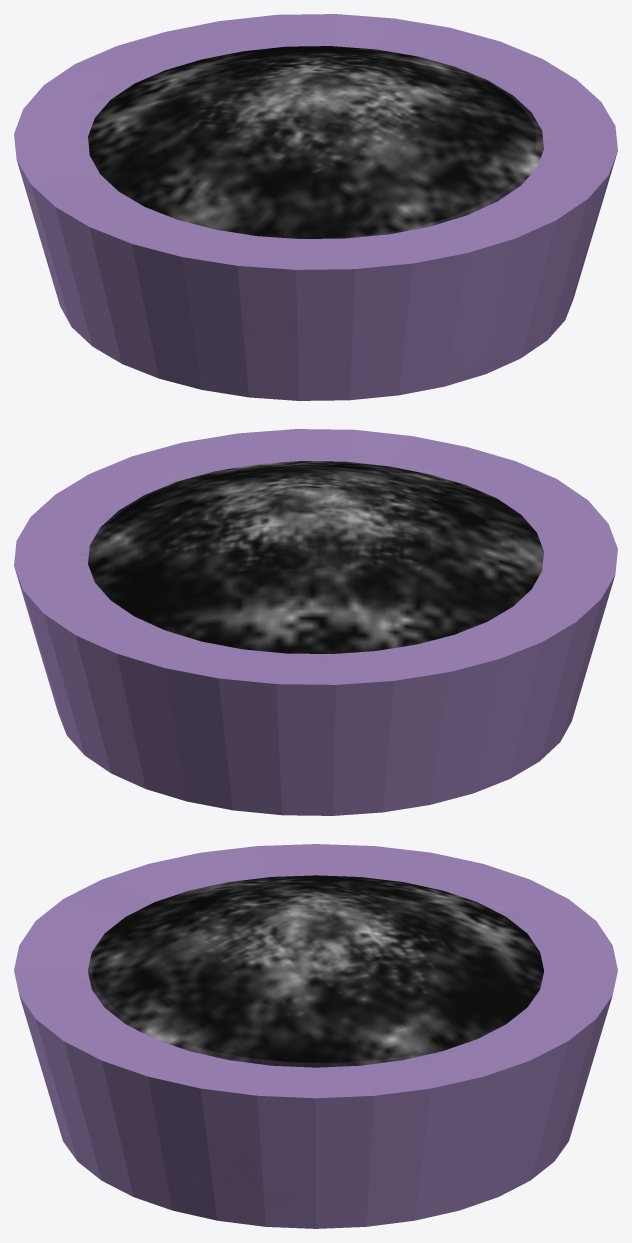
Rendered from Button off UV.fbx.
3 views of the same model, one above another, from view 1: azimuth 30°, elevation 25°; view 2: azimuth 150°, elevation 25°; view 3: azimuth 270°, elevation 25° (orthographic).
Parts seen in each view (by area): view 1: Button off; view 2: Button off; view 3: Button off.
Part boxes in pixels (x1=…): Button off: x1=14, y1=14, x2=617, y2=400; Button off: x1=14, y1=429, x2=617, y2=815; Button off: x1=14, y1=844, x2=617, y2=1228.
Bounding box in the file's own units: 93.84 × 34.91 × 94.22.
